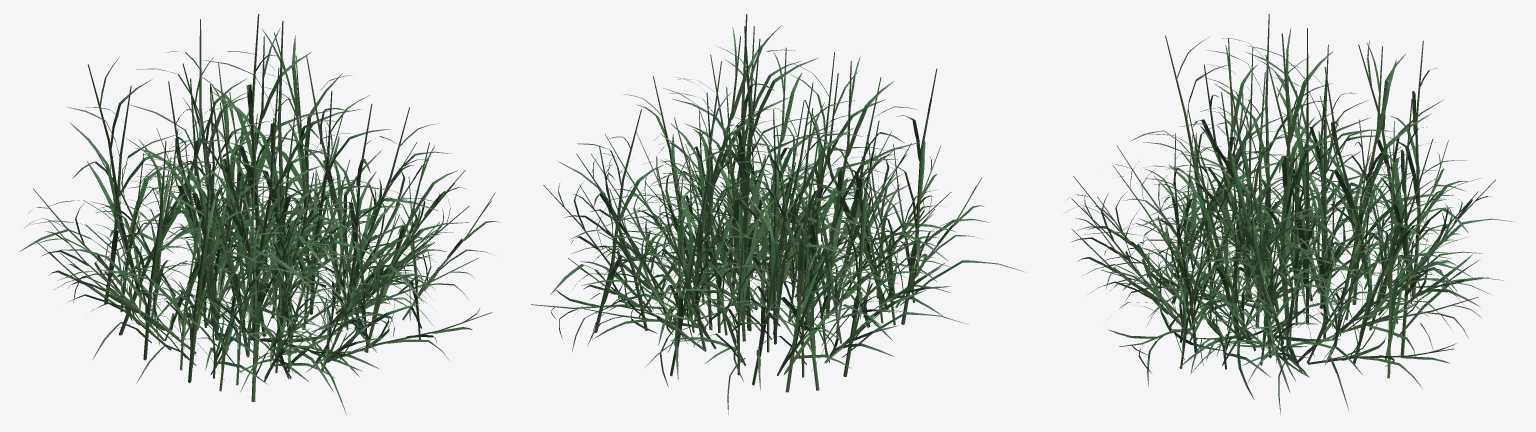
File: mimbre.fbx
The picture shows the model from 3 angles, left to right: view 1: azimuth 30°, elevation 25°; view 2: azimuth 150°, elevation 25°; view 3: azimuth 270°, elevation 25°; orthographic projection. The views are drawn at different scales.
Visible parts, largest first — view 1: Plane88, Plane28, Plane26, Plane30, Plane, Plane116, Plane6, Plane108, Plane16, Plane118, Plane14, Plane102 (+5 smaller); view 2: Plane, Plane6, Plane26, Plane28, Plane98, Plane112, Plane24, Plane118, Plane94, Plane12, Plane90, Plane2 (+7 smaller); view 3: Plane88, Plane, Plane106, Plane114, Plane116, Plane18, Plane94, Plane112, Plane10, Plane28, Plane6, Plane20 (+5 smaller).
Part boxes in pixels (left/top/right/bottom): Plane88: left=278, top=21, right=284, bottom=318; Plane28: left=188, top=163, right=210, bottom=383; Plane26: left=143, top=141, right=166, bottom=360; Plane30: left=251, top=132, right=257, bottom=401; Plane: left=251, top=14, right=259, bottom=321; Plane116: left=87, top=64, right=140, bottom=292; Plane6: left=190, top=78, right=218, bottom=340; Plane108: left=364, top=142, right=429, bottom=352; Plane16: left=309, top=91, right=332, bottom=314; Plane118: left=119, top=108, right=213, bottom=335; Plane14: left=343, top=104, right=372, bottom=326; Plane102: left=202, top=125, right=249, bottom=355; Plane: left=743, top=26, right=752, bottom=331; Plane6: left=825, top=61, right=851, bottom=318; Plane26: left=843, top=120, right=879, bottom=376; Plane28: left=901, top=68, right=937, bottom=324; Plane98: left=773, top=108, right=813, bottom=334; Plane112: left=594, top=109, right=641, bottom=332; Plane24: left=785, top=135, right=819, bottom=392; Plane118: left=776, top=127, right=819, bottom=390; Plane94: left=726, top=87, right=745, bottom=341; Plane12: left=760, top=47, right=786, bottom=304; Plane90: left=705, top=92, right=713, bottom=330; Plane2: left=773, top=109, right=776, bottom=344; Plane88: left=1280, top=33, right=1290, bottom=332; Plane: left=1306, top=28, right=1309, bottom=324; Plane106: left=1255, top=72, right=1265, bottom=327; Plane114: left=1400, top=99, right=1412, bottom=355; Plane116: left=1412, top=40, right=1423, bottom=296; Plane18: left=1324, top=67, right=1374, bottom=303; Plane94: left=1352, top=46, right=1382, bottom=304; Plane112: left=1387, top=121, right=1394, bottom=378; Plane10: left=1204, top=64, right=1252, bottom=302; Plane28: left=1165, top=35, right=1218, bottom=272; Plane6: left=1265, top=14, right=1270, bottom=284; Plane20: left=1353, top=173, right=1414, bottom=364.
Size of the model in its own units: 477 by 371 by 480.
1 material, 1 textured.
